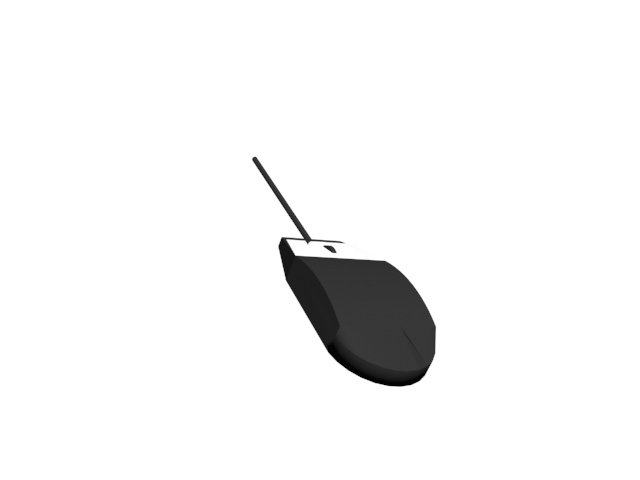mouse: (249, 153, 440, 392)
